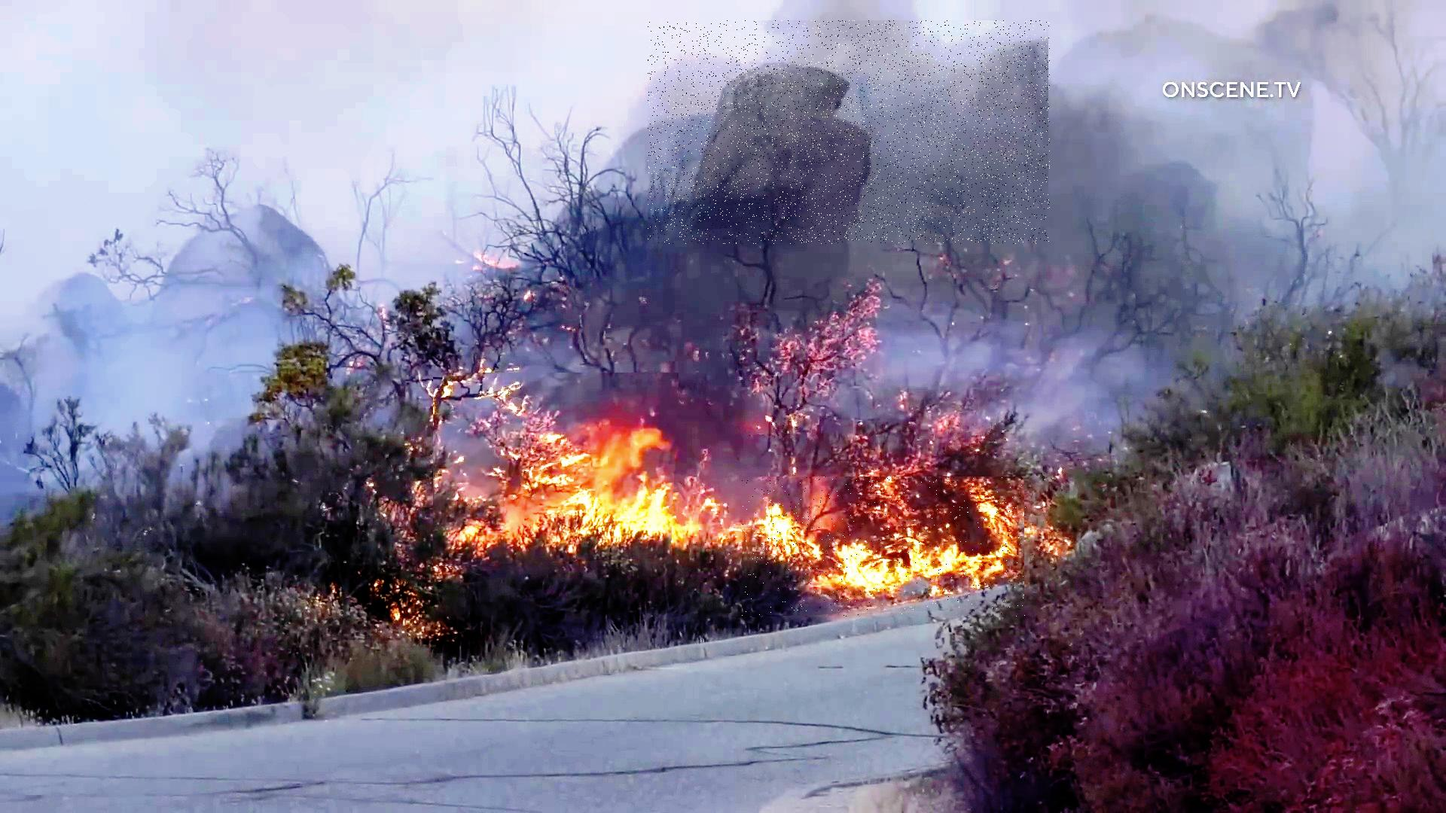fire: (648, 21, 1050, 244), (434, 373, 681, 569), (742, 477, 1026, 617)
